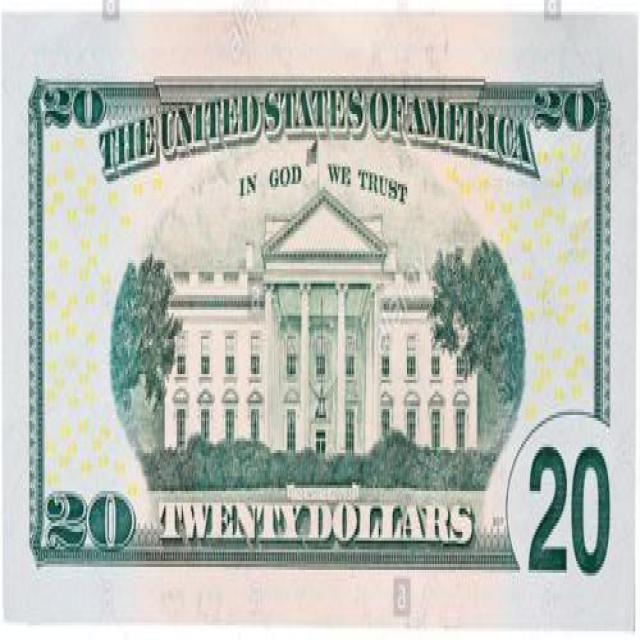20-Back: (3, 9, 636, 628)
